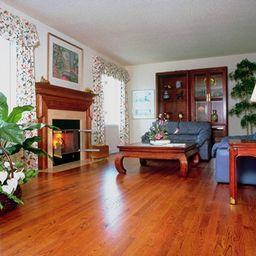Matera: (1, 96, 39, 214)
